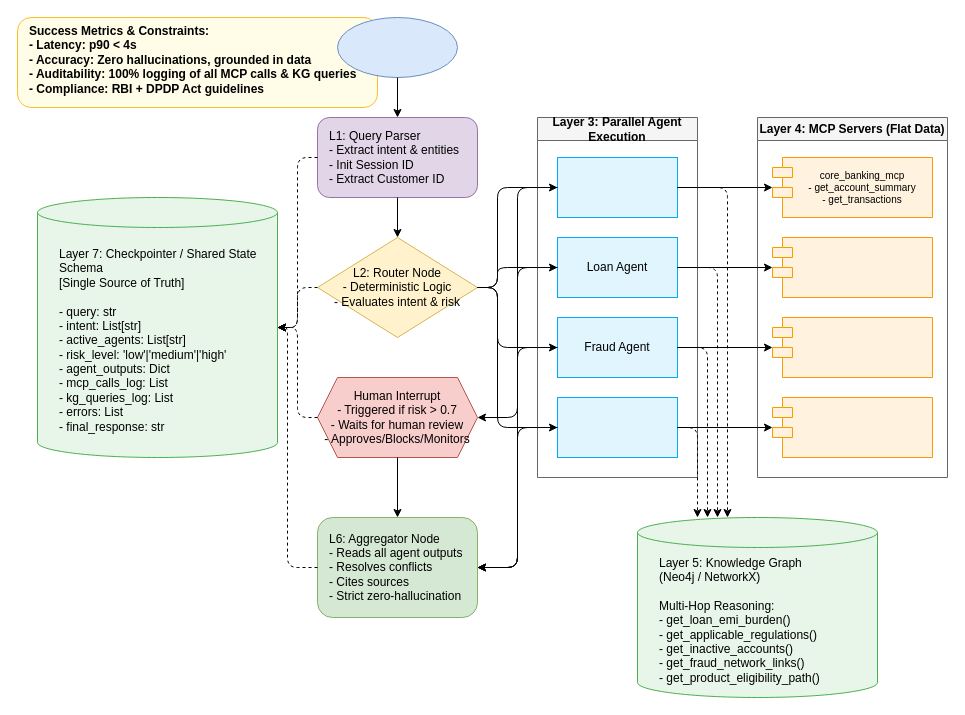
The diagram is 965 pixels wide and 715 high, and some of its shapes have lost their labels. The centre of each missing label's shape, as x and y in pixels:
"Account Agent" goes at (x=617, y=187).
"Compliance Agent" goes at (x=617, y=427).
"compliance_mcp - get_rbi_rules - check_product_eligibility" goes at (x=852, y=427).
"credit_mcp - get_credit_profile - check_loan_eligibility" goes at (x=852, y=267).
"fraud_mcp - score_transaction_risk - flag_transaction" goes at (x=852, y=347).
"User (Raw Query)" goes at (x=397, y=47).
